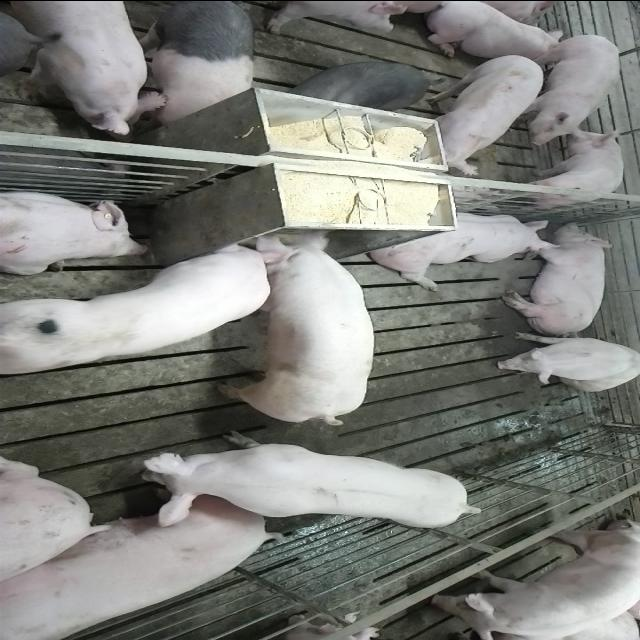Feeding: (5, 236, 276, 376), (220, 230, 376, 428)
Lateral_lying: (502, 222, 618, 336)
Sitting: (494, 334, 640, 390)
Standing: (130, 432, 486, 533), (427, 524, 640, 640), (1, 2, 168, 138), (130, 1, 258, 126), (416, 51, 548, 172), (508, 32, 620, 146), (509, 124, 625, 204), (288, 59, 431, 111), (260, 0, 402, 34)
Sternal_lying: (366, 208, 562, 286), (0, 185, 148, 272), (420, 4, 570, 62)
